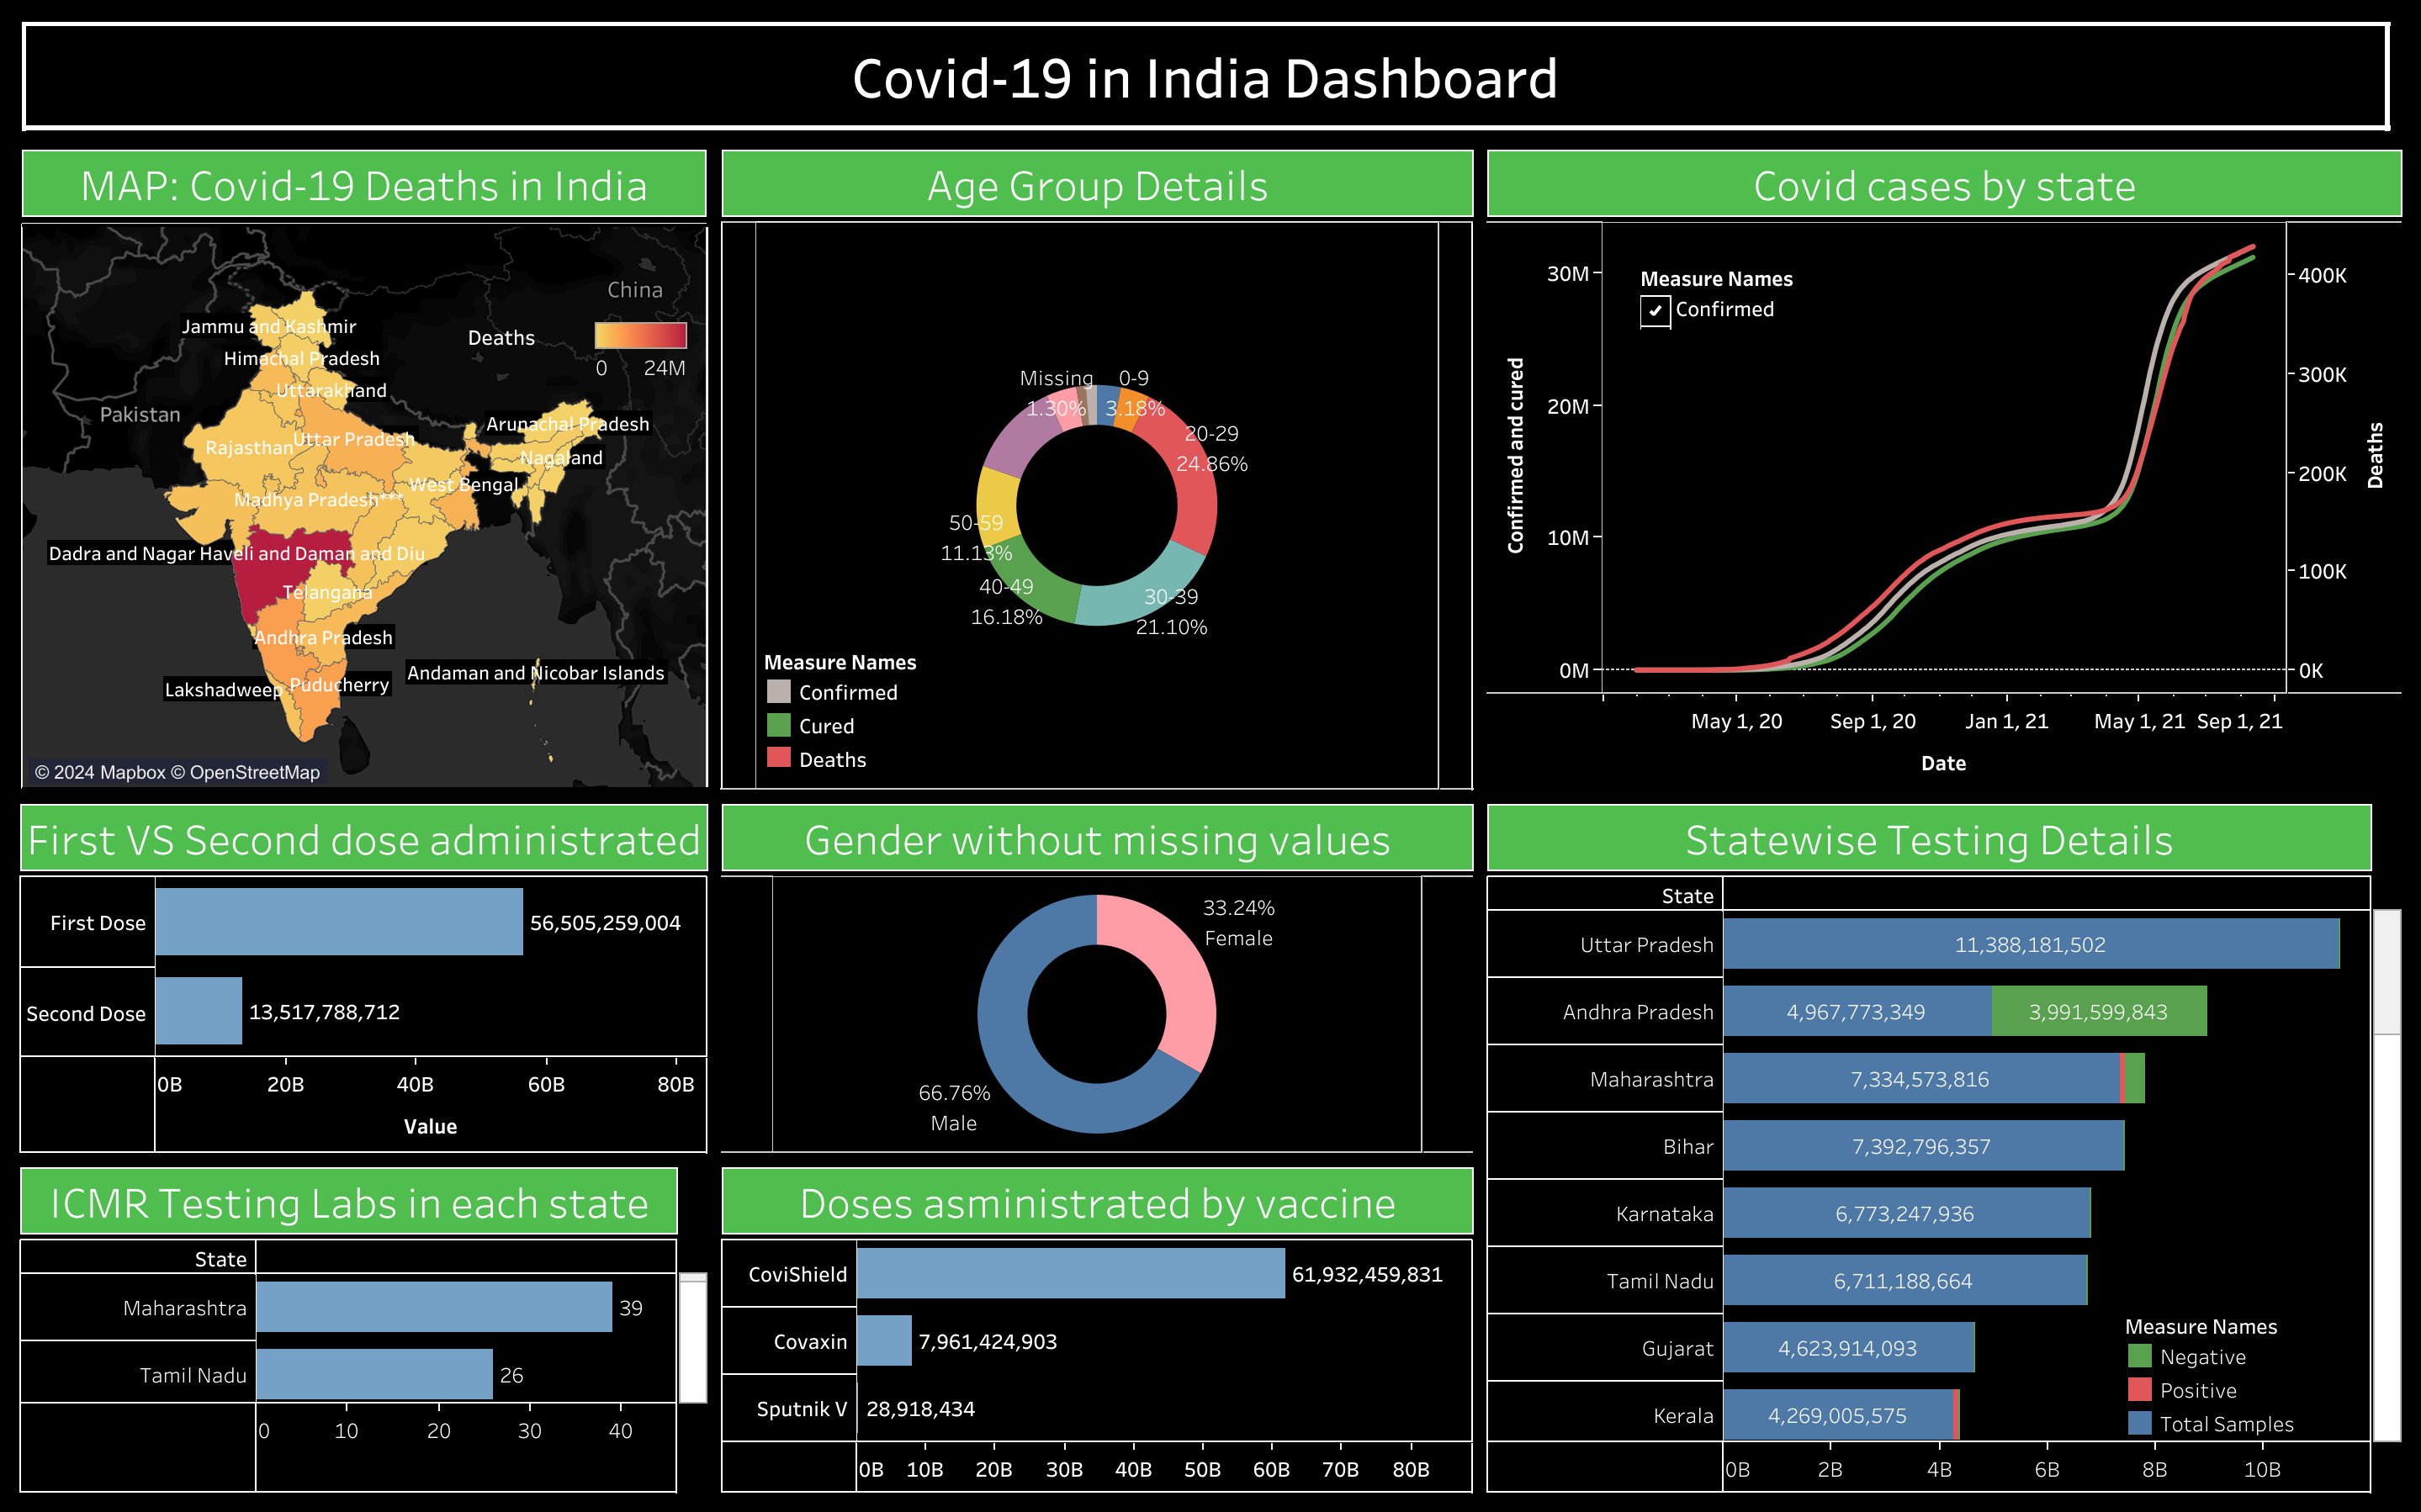

What the dashboard file says about the page in this screenshot:
{"tool":"tableau","page":{"name":"Dashboard 1","canvas":[1440,900],"ordinal":0},"visuals":[{"type":"worksheet","title":"Title","mark":"Automatic","box":[8,8,1424,77]},{"type":"worksheet","title":"MAP: Total deaths by states","mark":"Automatic","box":[8,85,417,389]},{"type":"worksheet","title":"Age Group Details","mark":"Pie","rows":["Calculation_78038974104473601","Calculation_78038974104530947"],"box":[425,85,454.9,389]},{"type":"worksheet","title":"Covid cases graph","mark":"Automatic","rows":["Deaths"],"cols":["Date"],"box":[879.9,85,552.1,389]},{"type":"filter","title":"Covid cases graph","param":"[federated.0mhlykv1cah5mb12w373s01na4fj].[:Measure Names]","box":[975,155,170,41]},{"type":"legend","title":"MAP: Total deaths by states","param":"[federated.0mhlykv1cah5mb12w373s01na4fj].[sum:Deaths:qk]","box":[278,188,135,36]},{"type":"legend","title":"Covid cases graph","param":"[federated.0mhlykv1cah5mb12w373s01na4fj].[:Measure Names]","box":[453,382,122,74]},{"type":"worksheet","title":"First VS Second dose administrated","mark":"Automatic","box":[8,474,417,216.2]},{"type":"worksheet","title":"Gender without missing values","mark":"Pie","rows":["Calculation_78038974110482439","Calculation_78038974110547979"],"box":[425,474,454.9,216.2]},{"type":"worksheet","title":"Statewise Testing Details","mark":"Automatic","rows":["State"],"box":[879.9,474,552.1,418]},{"type":"worksheet","title":"ICMR Testing Labs in each state","mark":"Automatic","rows":["state"],"cols":["lab"],"box":[8,690.2,417,201.8]},{"type":"worksheet","title":"Doses asministrated by vaccine","mark":"Automatic","box":[425,690.2,454.9,201.8]},{"type":"legend","title":"Statewise Testing Details","param":"[federated.0nkrf9f0yegeqi14yg05t0hpw1cn].[:Measure Names]","box":[1262,777,140,78]}]}

Visuals, with their boxes in screenshot pixels (x1, y1, x2, y2), scaled from the page's 1440x900 canvas onto the 2421x1512 screenshot:
"Title" worksheet: region(13, 13, 2408, 143)
"MAP: Total deaths by states" worksheet: region(13, 143, 714, 796)
"Age Group Details" worksheet (Pie marks): region(714, 143, 1480, 796)
"Covid cases graph" worksheet: region(1480, 143, 2408, 796)
"Covid cases graph" filter: region(1640, 261, 1925, 330)
"MAP: Total deaths by states" legend: region(468, 316, 694, 377)
"Covid cases graph" legend: region(761, 642, 967, 766)
"First VS Second dose administrated" worksheet: region(13, 796, 714, 1160)
"Gender without missing values" worksheet (Pie marks): region(714, 796, 1480, 1160)
"Statewise Testing Details" worksheet: region(1480, 796, 2408, 1499)
"ICMR Testing Labs in each state" worksheet: region(13, 1160, 714, 1499)
"Doses asministrated by vaccine" worksheet: region(714, 1160, 1480, 1499)
"Statewise Testing Details" legend: region(2122, 1305, 2357, 1436)
